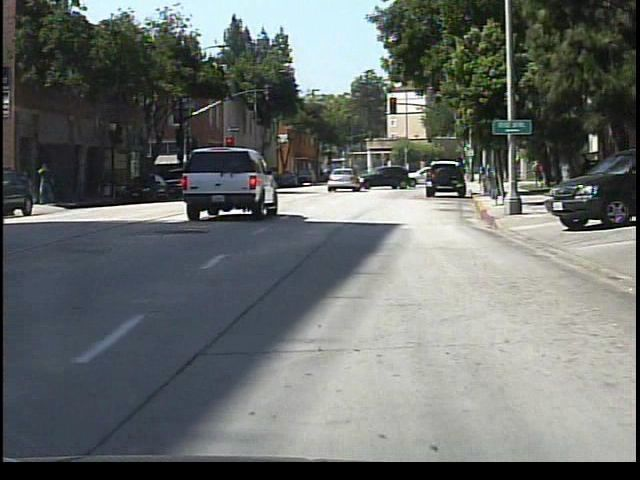person: (38, 158, 61, 207), (531, 158, 547, 190), (324, 161, 342, 189), (478, 155, 493, 182)
